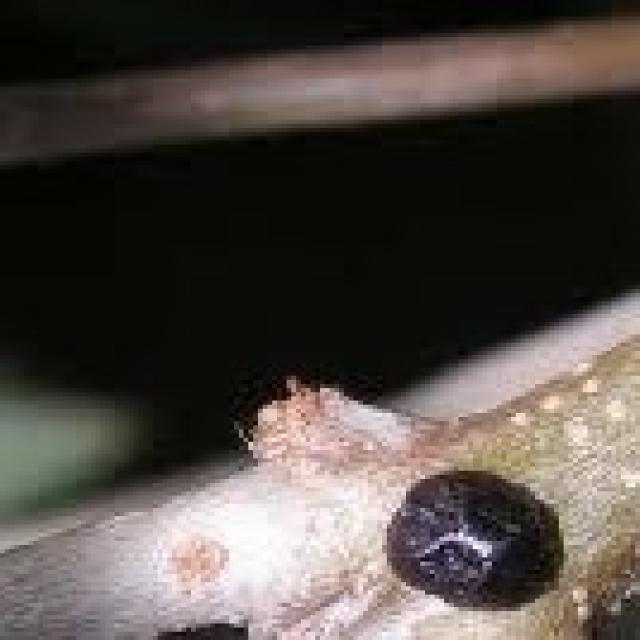BlackScale: (387, 467, 554, 607)
